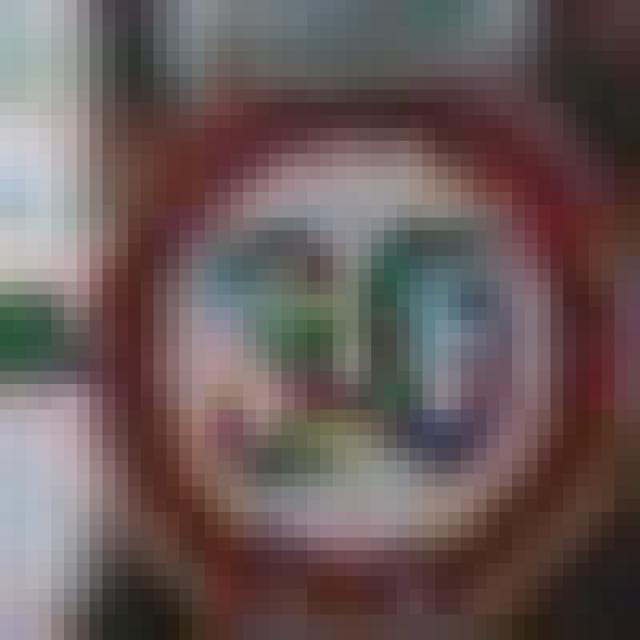SPEED_LIMIT_30: (77, 51, 614, 602)
